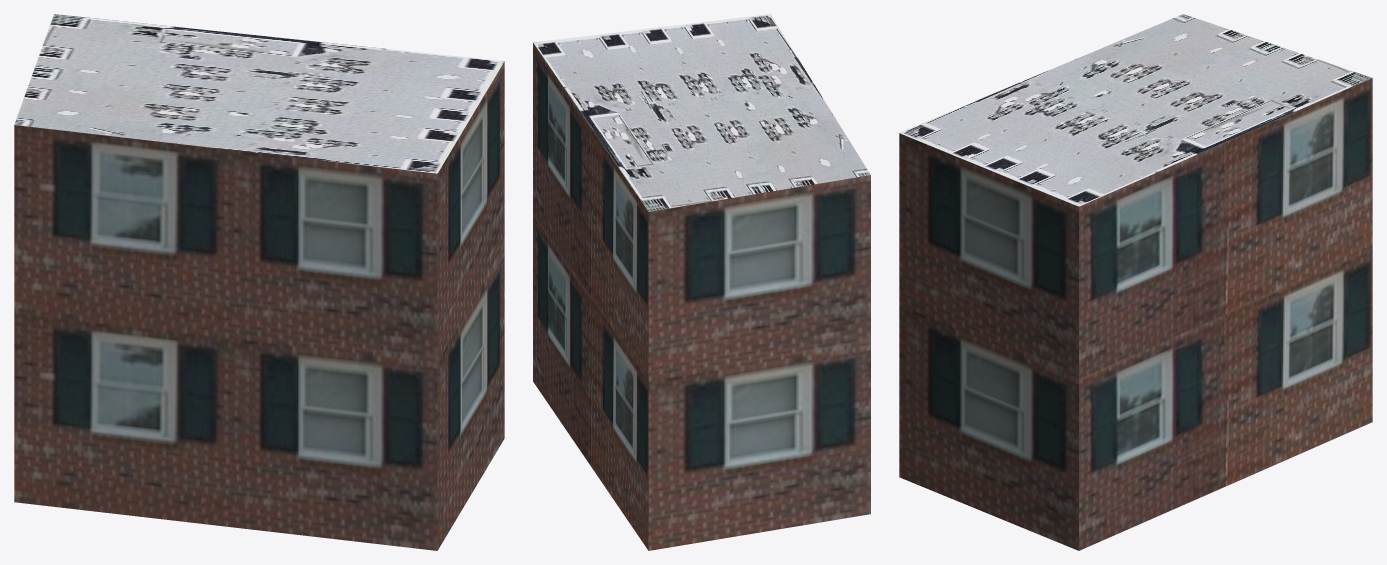
The model's file is ResTex__845.fbx.
The picture shows the model from 3 angles, left to right: view 1: azimuth 30°, elevation 25°; view 2: azimuth 150°, elevation 25°; view 3: azimuth 270°, elevation 25°; orthographic projection. The views are drawn at different scales.
Parts seen in each view (by area): view 1: CityEngineMaterial_14_m, CityEngineMaterial_8_m; view 2: CityEngineMaterial_14_m, CityEngineMaterial_8_m; view 3: CityEngineMaterial_14_m, CityEngineMaterial_8_m.
Boxes of the visible parts, x1,y1,x2,y2 form: CityEngineMaterial_14_m: [14, 61, 504, 550]; CityEngineMaterial_8_m: [14, 14, 504, 173]; CityEngineMaterial_14_m: [533, 43, 870, 550]; CityEngineMaterial_8_m: [533, 14, 870, 211]; CityEngineMaterial_14_m: [899, 78, 1372, 550]; CityEngineMaterial_8_m: [899, 14, 1372, 206].
Size of the model in its own units: 7.21 by 6 by 7.48.
Materials: 2 (2 with a texture image).
